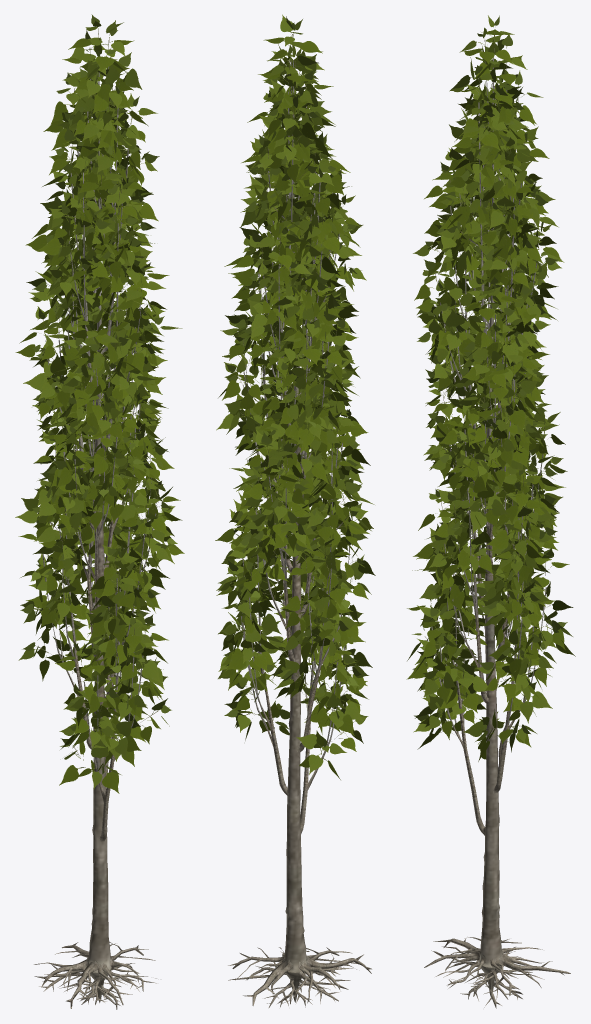
Rendered from populier.glb.
3 views of the same model, side by side, from view 1: azimuth 30°, elevation 25°; view 2: azimuth 150°, elevation 25°; view 3: azimuth 270°, elevation 25° (orthographic).
Visible parts, largest first — view 1: Populus_nigra__Italica__HD_Pop nigra leaf 01d_0, Populus_nigra__Italica__HD_Pop nigra leaf 01c_0, Populus_nigra__Italica__HD_Pop nigra bark 01_0, Populus_nigra__Italica__HD_Pop nigra leaf 01b_0, Populus_nigra__Italica__HD_Pop nigra twig 03_0, Populus_nigra__Italica__HD_Pop nigra lf stk 01c_0, Populus_nigra__Italica__HD_Pop nigra lf stk 01d_0; view 2: Populus_nigra__Italica__HD_Pop nigra leaf 01d_0, Populus_nigra__Italica__HD_Pop nigra leaf 01c_0, Populus_nigra__Italica__HD_Pop nigra bark 01_0, Populus_nigra__Italica__HD_Pop nigra leaf 01b_0, Populus_nigra__Italica__HD_Pop nigra twig 03_0, Populus_nigra__Italica__HD_Pop nigra lf stk 01c_0, Populus_nigra__Italica__HD_Pop nigra lf stk 01d_0; view 3: Populus_nigra__Italica__HD_Pop nigra leaf 01d_0, Populus_nigra__Italica__HD_Pop nigra leaf 01c_0, Populus_nigra__Italica__HD_Pop nigra bark 01_0, Populus_nigra__Italica__HD_Pop nigra leaf 01b_0, Populus_nigra__Italica__HD_Pop nigra twig 03_0, Populus_nigra__Italica__HD_Pop nigra lf stk 01c_0, Populus_nigra__Italica__HD_Pop nigra lf stk 01d_0.
Part boxes in pixels (left/top/right/bottom): Populus_nigra__Italica__HD_Pop nigra leaf 01d_0: left=15, top=38, right=184, bottom=793; Populus_nigra__Italica__HD_Pop nigra leaf 01c_0: left=15, top=20, right=183, bottom=789; Populus_nigra__Italica__HD_Pop nigra bark 01_0: left=34, top=66, right=156, bottom=1009; Populus_nigra__Italica__HD_Pop nigra leaf 01b_0: left=20, top=14, right=177, bottom=774; Populus_nigra__Italica__HD_Pop nigra twig 03_0: left=38, top=28, right=162, bottom=766; Populus_nigra__Italica__HD_Pop nigra lf stk 01c_0: left=35, top=34, right=162, bottom=767; Populus_nigra__Italica__HD_Pop nigra lf stk 01d_0: left=37, top=47, right=163, bottom=772; Populus_nigra__Italica__HD_Pop nigra leaf 01d_0: left=215, top=37, right=375, bottom=779; Populus_nigra__Italica__HD_Pop nigra leaf 01c_0: left=216, top=14, right=374, bottom=774; Populus_nigra__Italica__HD_Pop nigra bark 01_0: left=228, top=60, right=371, bottom=1007; Populus_nigra__Italica__HD_Pop nigra leaf 01b_0: left=218, top=21, right=368, bottom=747; Populus_nigra__Italica__HD_Pop nigra twig 03_0: left=237, top=32, right=353, bottom=751; Populus_nigra__Italica__HD_Pop nigra lf stk 01c_0: left=231, top=35, right=356, bottom=754; Populus_nigra__Italica__HD_Pop nigra lf stk 01d_0: left=235, top=45, right=354, bottom=760; Populus_nigra__Italica__HD_Pop nigra leaf 01d_0: left=406, top=29, right=575, bottom=761; Populus_nigra__Italica__HD_Pop nigra leaf 01c_0: left=407, top=15, right=572, bottom=752; Populus_nigra__Italica__HD_Pop nigra bark 01_0: left=424, top=58, right=570, bottom=1008; Populus_nigra__Italica__HD_Pop nigra leaf 01b_0: left=412, top=15, right=567, bottom=733; Populus_nigra__Italica__HD_Pop nigra twig 03_0: left=425, top=30, right=552, bottom=734; Populus_nigra__Italica__HD_Pop nigra lf stk 01c_0: left=425, top=38, right=551, bottom=733; Populus_nigra__Italica__HD_Pop nigra lf stk 01d_0: left=429, top=35, right=552, bottom=744.
Size of the model in its own units: 0.6246 by 3.89 by 0.6112.
Materials: 9 (6 with a texture image).
